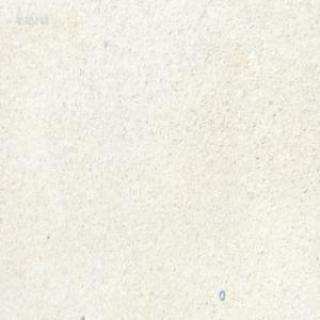Washertrack_idkeyframe: (217, 288, 224, 299)
